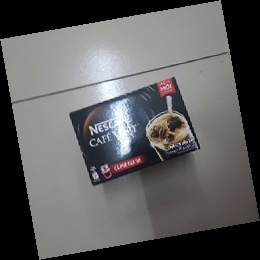CF Viet: (69, 76, 201, 190)
